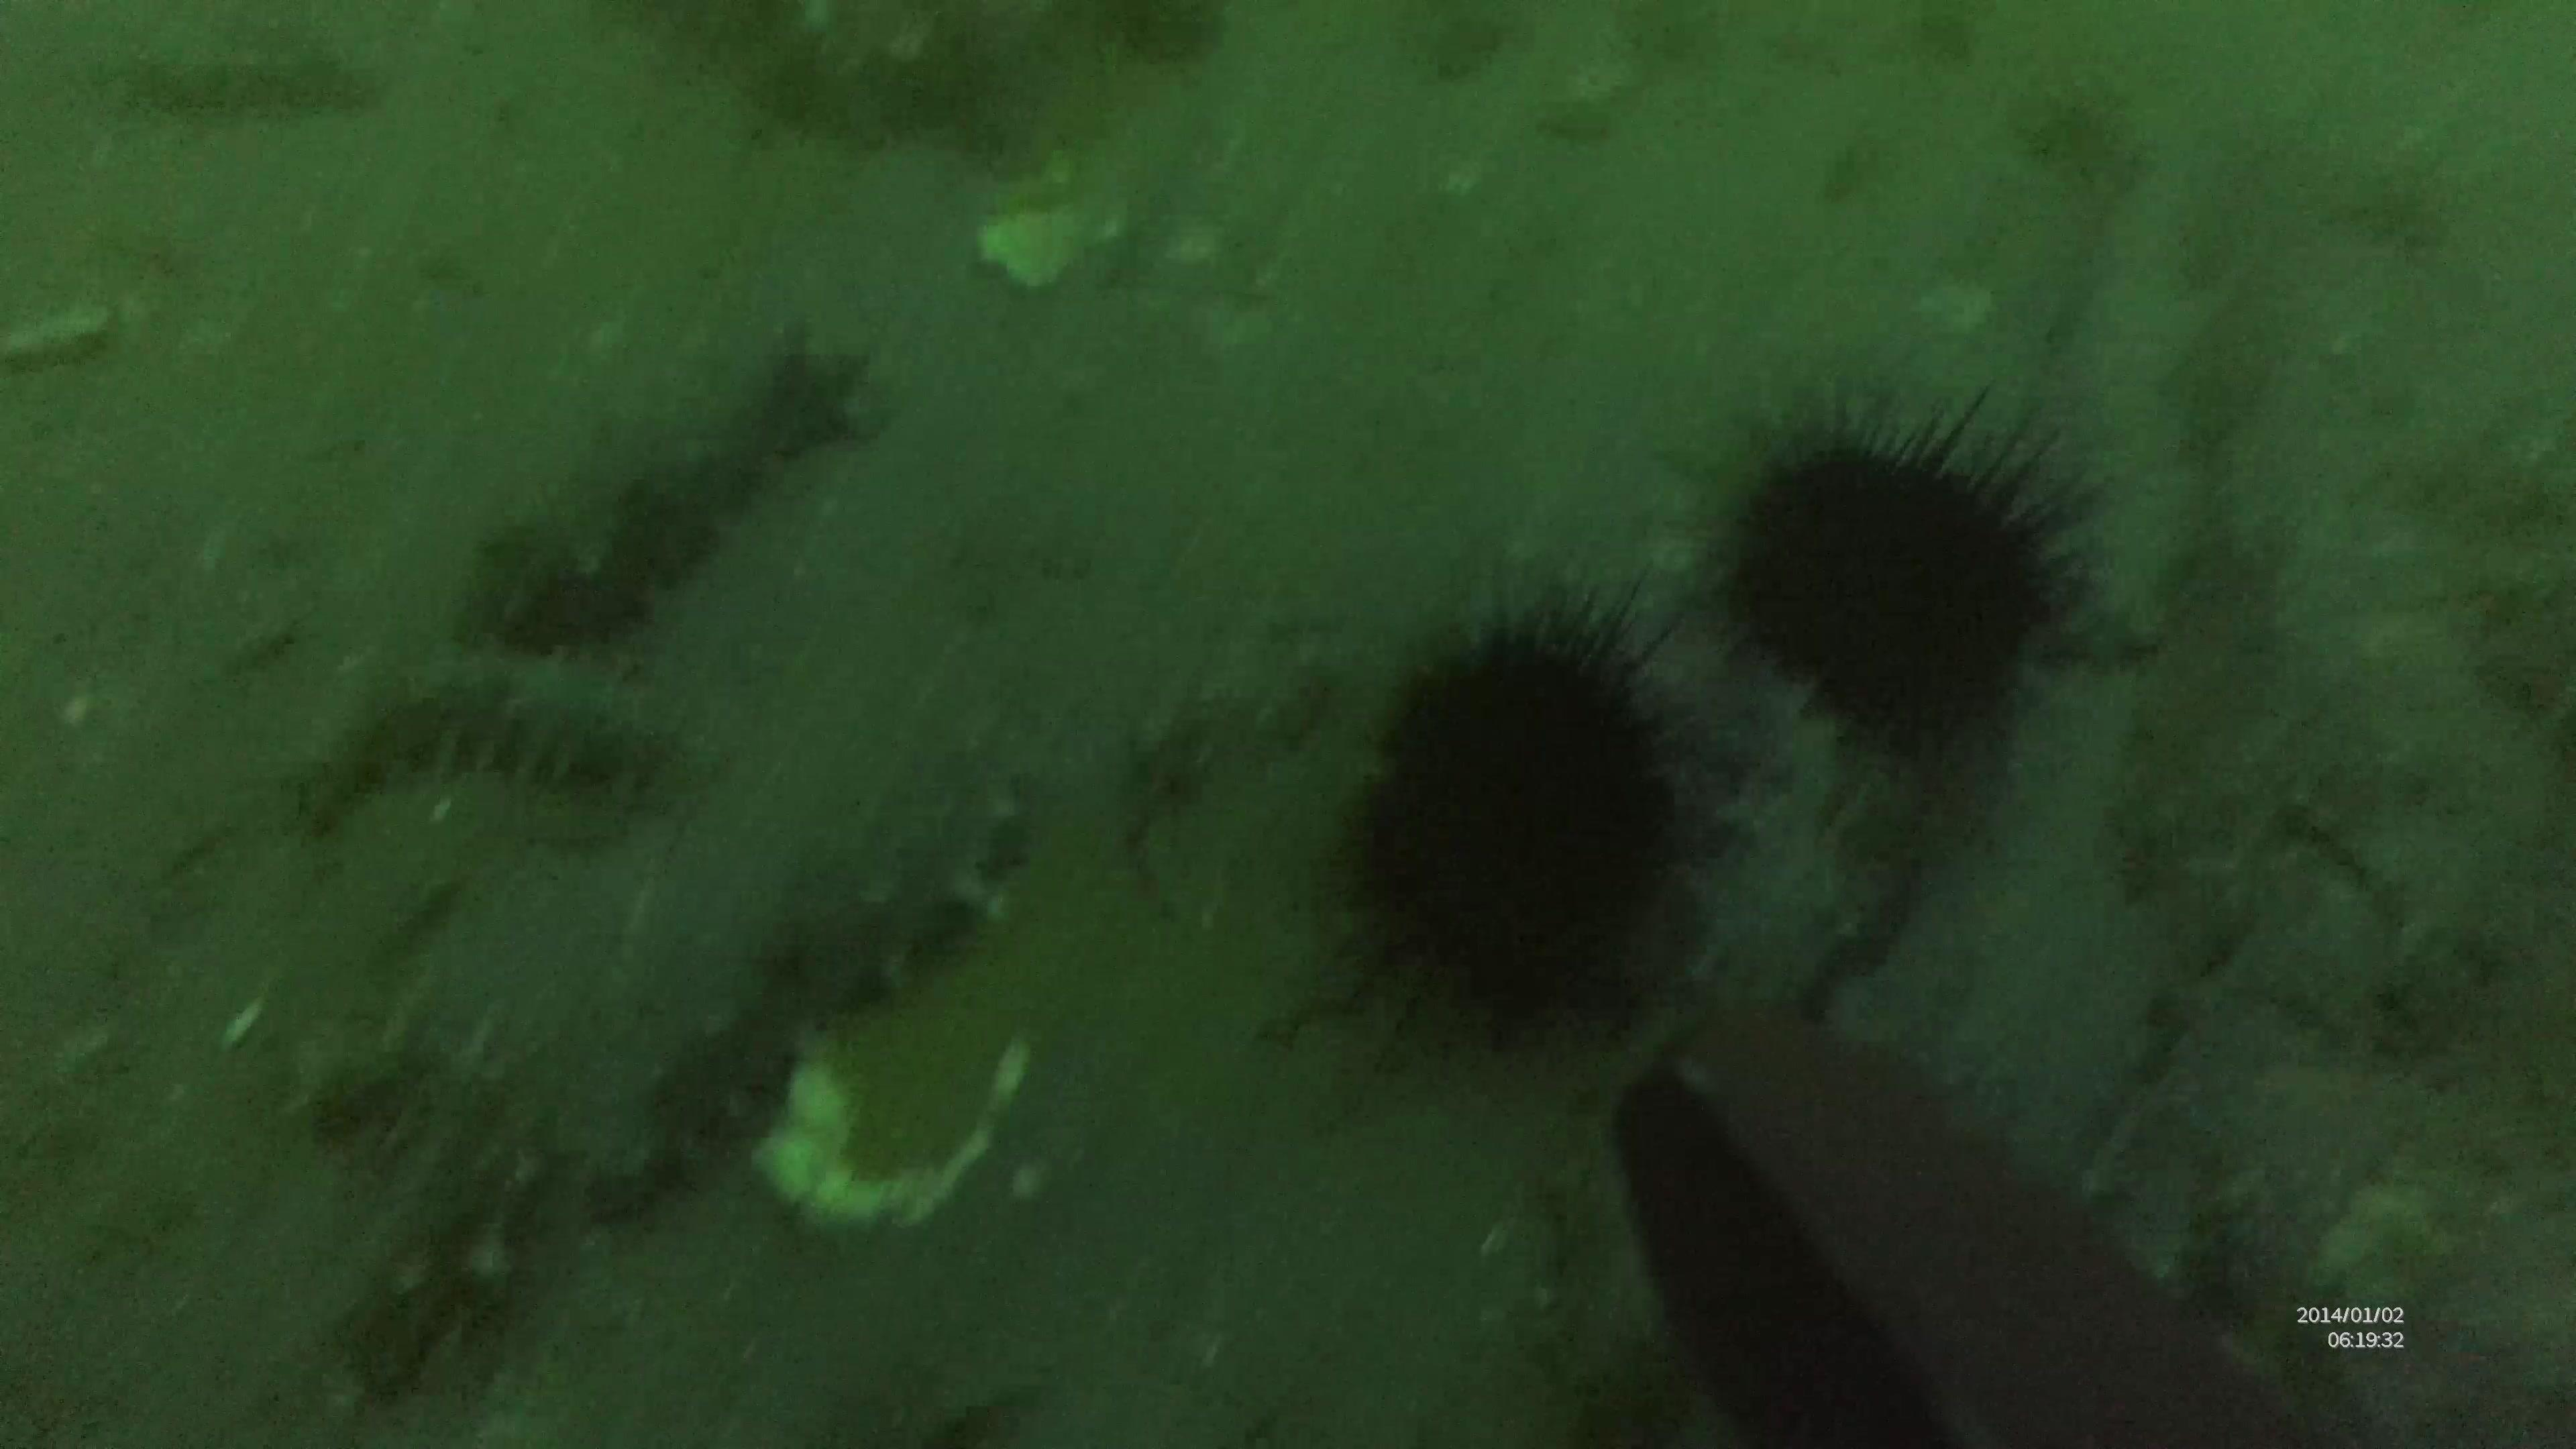echinus: (1341, 570, 1702, 1019), (1775, 402, 2070, 800)
holothurian: (315, 801, 1065, 1408), (435, 334, 853, 623), (235, 683, 671, 830), (248, 980, 511, 1169)
